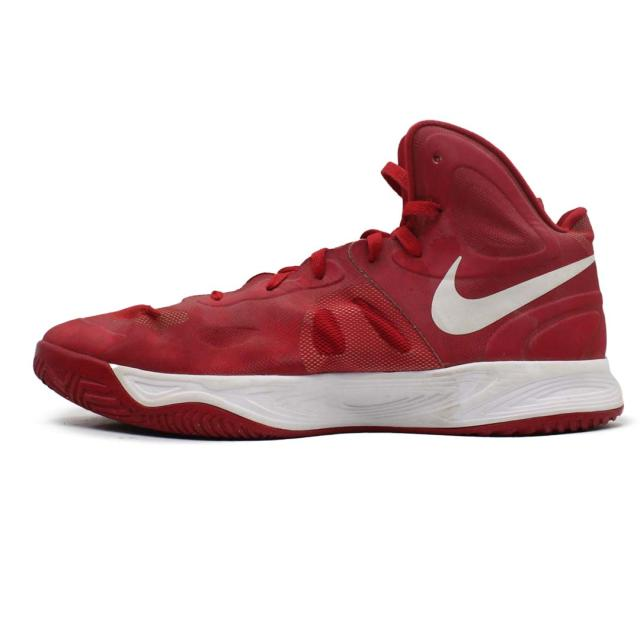heel: (562, 207, 605, 355)
midsole: (30, 337, 622, 438)
uppersole: (49, 122, 570, 373)
